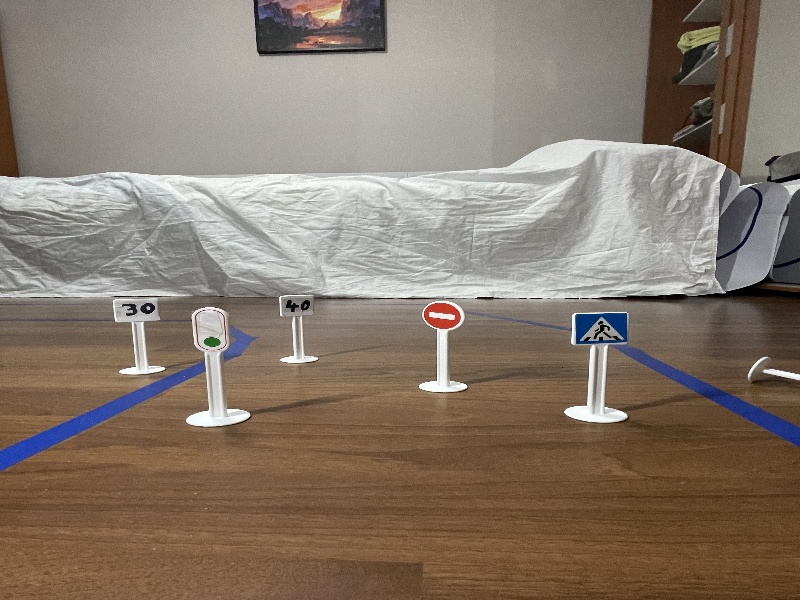interzis: (418, 295, 467, 337)
semafor_verde: (185, 305, 236, 358)
trecere_pietoni: (563, 303, 638, 353)
viteza_limita_30: (112, 286, 164, 324)
viteza_limita_40: (275, 287, 327, 322)
